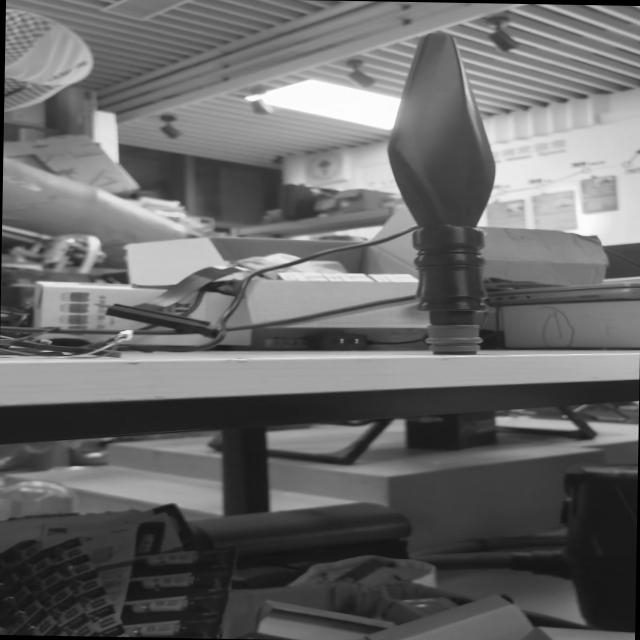base: (426, 321, 492, 362)
